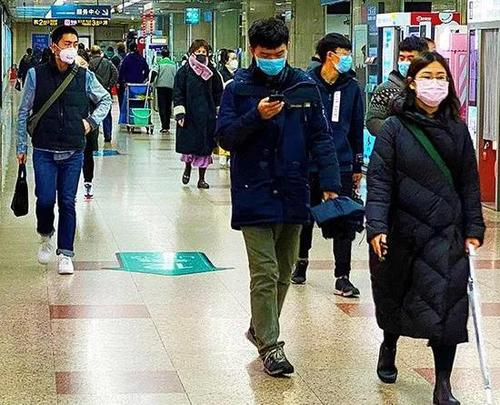yes_mask: (405, 50, 453, 110), (245, 17, 291, 79), (316, 32, 355, 77), (391, 34, 426, 79), (46, 23, 80, 67), (186, 36, 210, 67)
